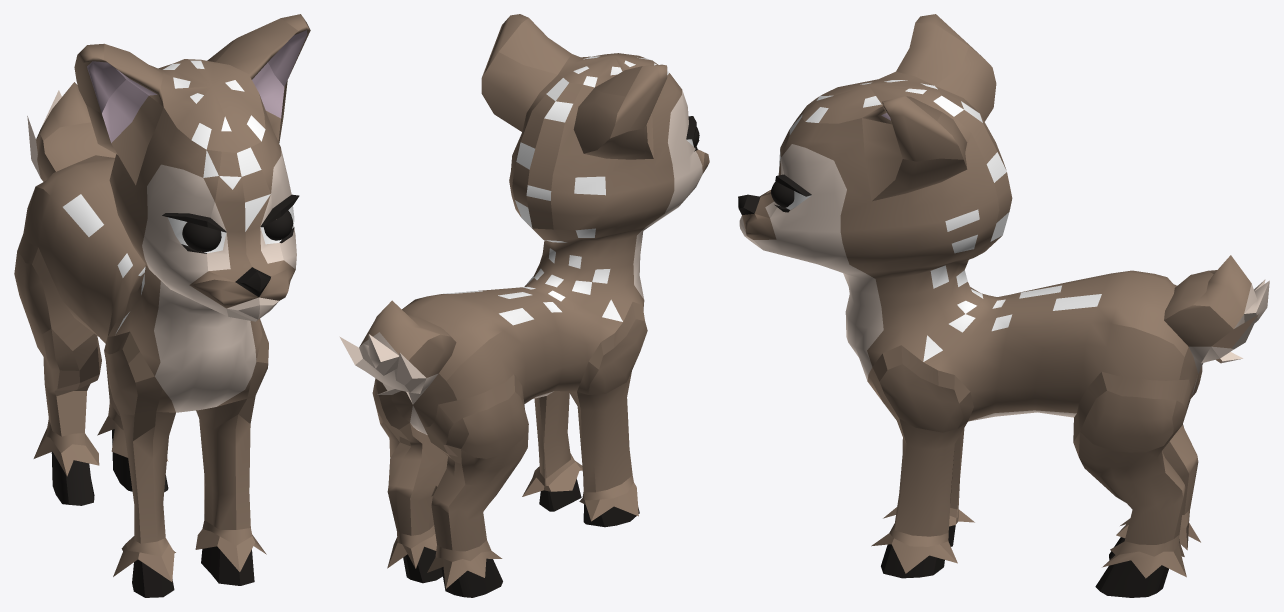
Rendered from Deer_final.fbx.
3 renders of one model, left to right at view 1: azimuth 30°, elevation 25°; view 2: azimuth 150°, elevation 25°; view 3: azimuth 270°, elevation 25°, orthographic. The views are drawn at different scales.
Visible parts, largest first — view 1: pCylinder2; view 2: pCylinder2; view 3: pCylinder2.
Boxes of the visible parts, x1,y1,x2,y2 form: pCylinder2: [14, 14, 310, 597]; pCylinder2: [339, 14, 709, 597]; pCylinder2: [738, 14, 1269, 597].
Bounding box in the file's own units: 86.39 × 208 × 198.
